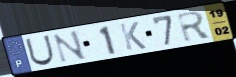1: (98, 24, 118, 56)
7: (151, 14, 175, 48)
K: (117, 20, 148, 52)
N: (51, 29, 88, 64)
R: (175, 10, 214, 44)
U: (24, 34, 56, 67)
